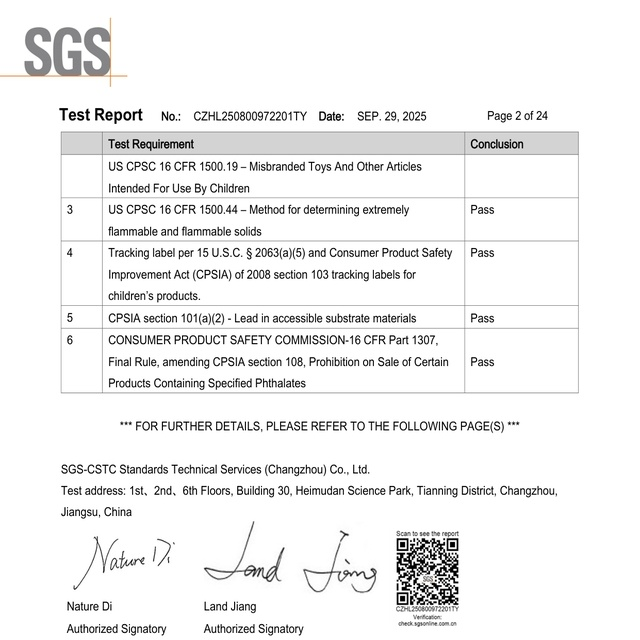sgs: (25, 27, 111, 77)
